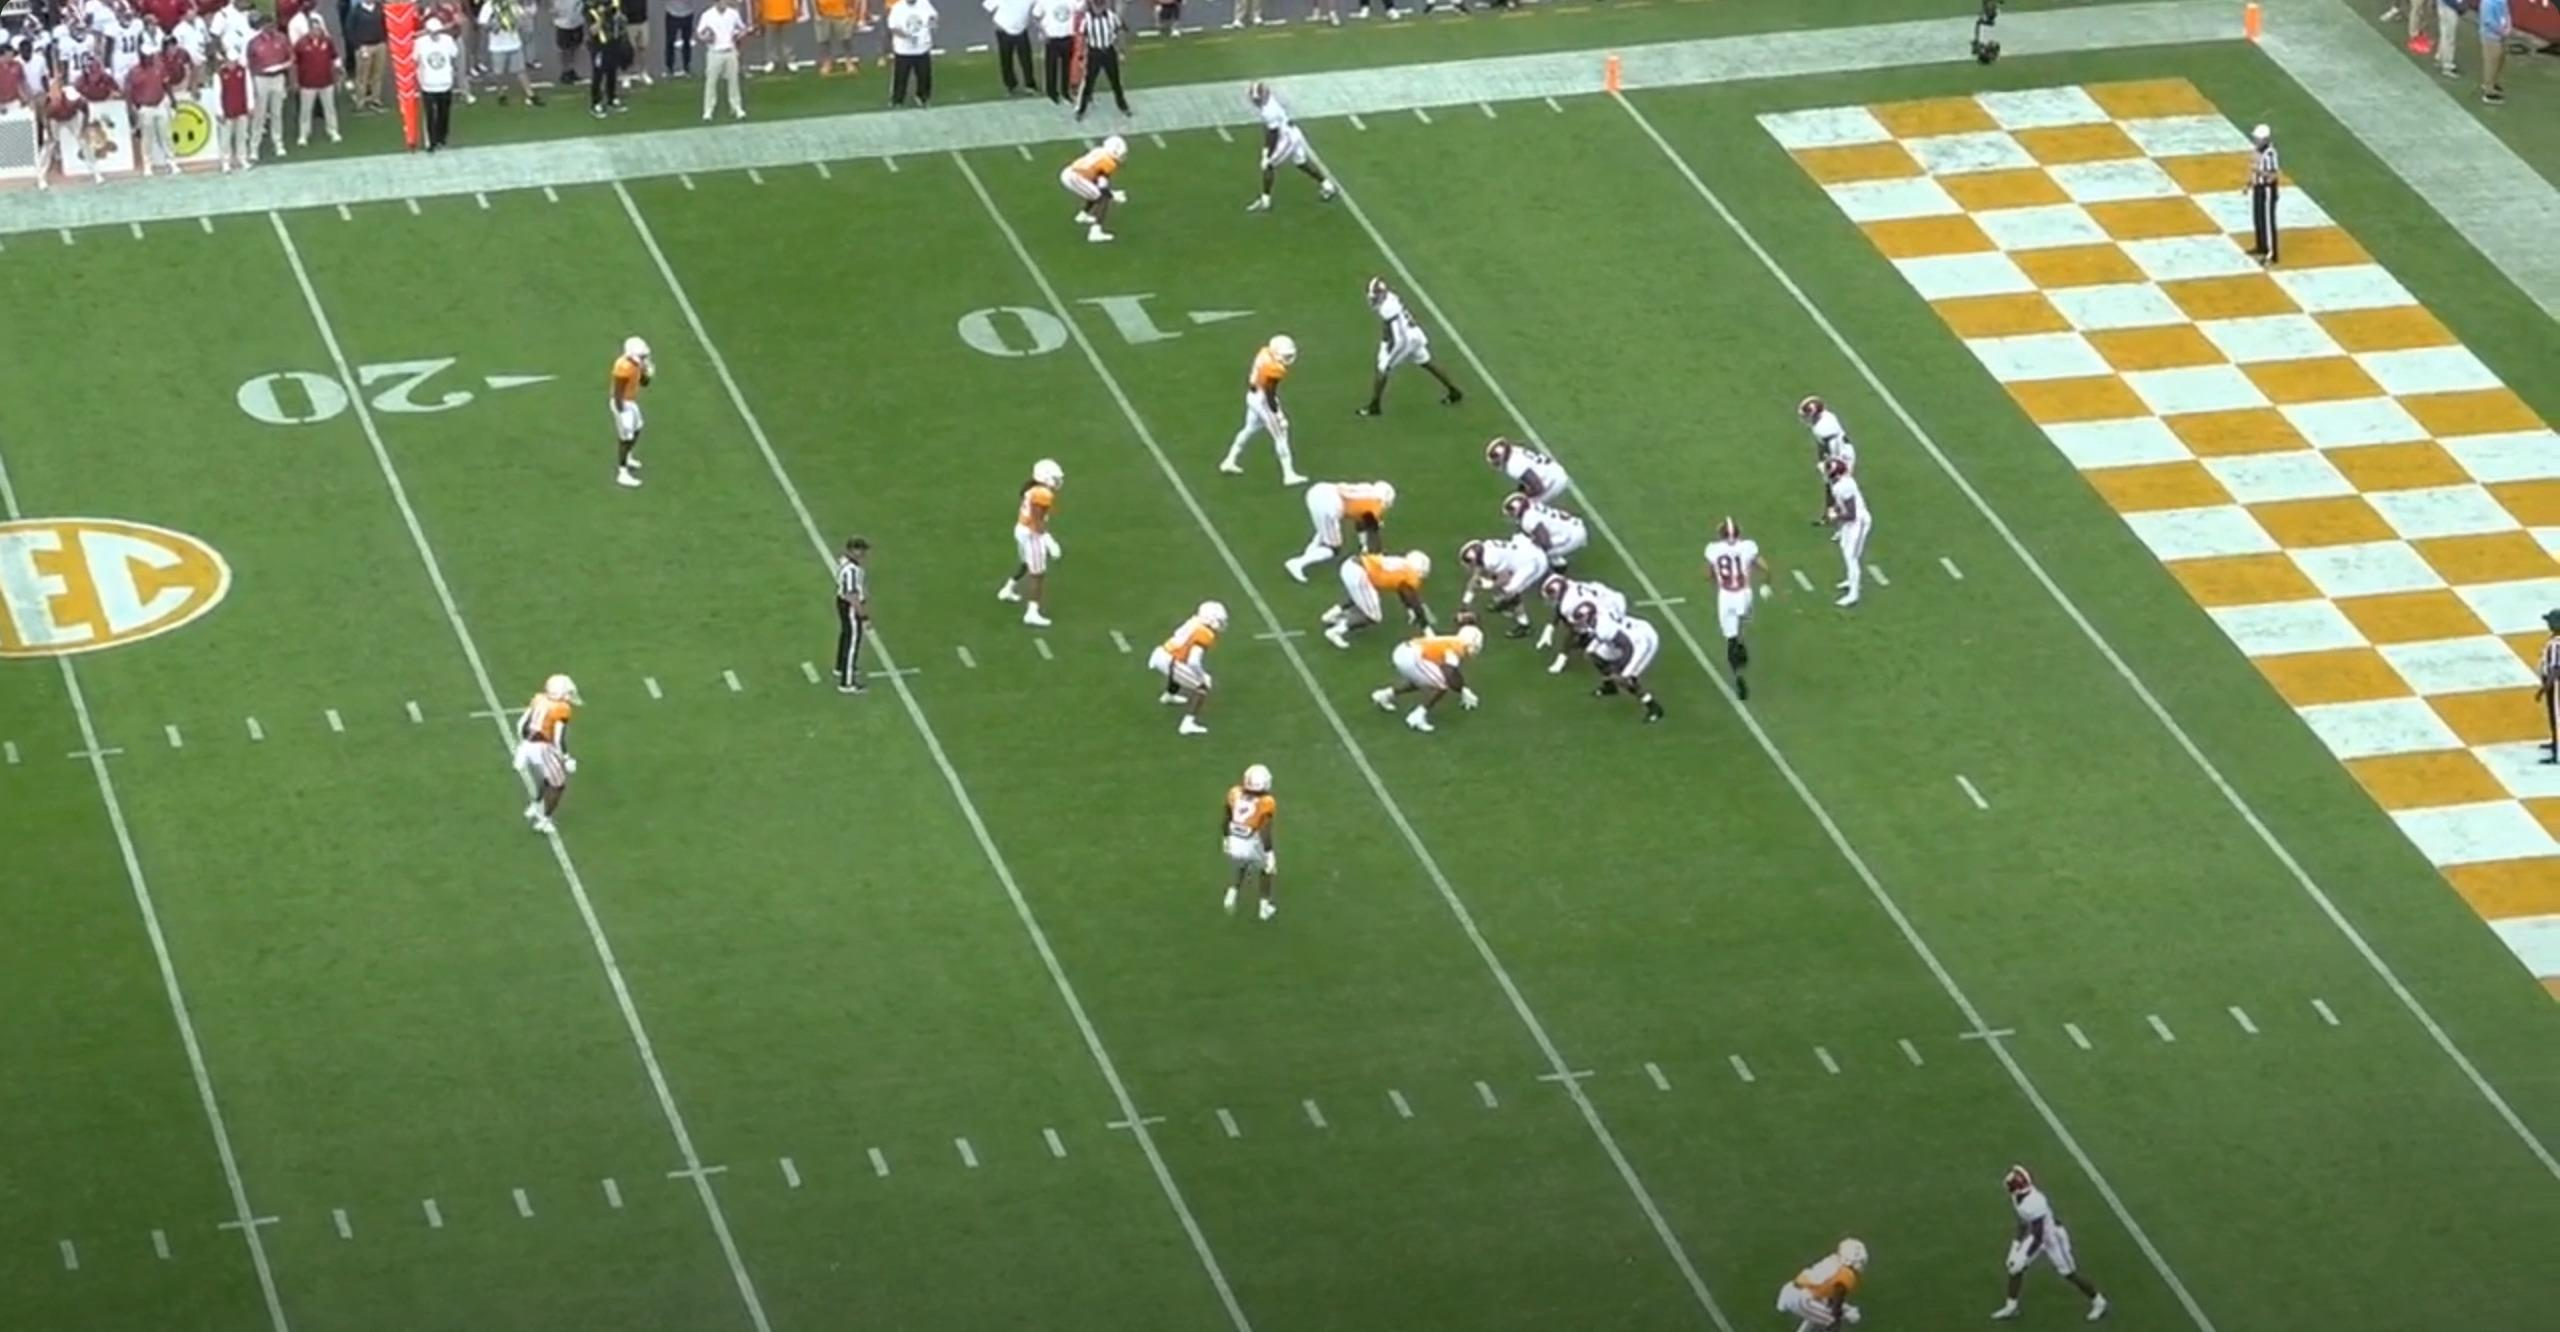defense: (1221, 323, 1312, 484), (999, 450, 1079, 633), (1273, 472, 1397, 582), (1378, 625, 1498, 736), (1319, 545, 1443, 652), (516, 669, 593, 838), (1219, 753, 1292, 929), (1156, 601, 1239, 750), (589, 332, 654, 506), (1766, 1236, 1868, 1332), (1068, 137, 1138, 252)
oline: (1581, 606, 1674, 731), (1443, 538, 1548, 643), (1534, 574, 1625, 682), (1509, 489, 1603, 581), (1483, 437, 1571, 516)
qb: (1807, 460, 1874, 618)
ref: (826, 542, 887, 709), (1080, 0, 1143, 127), (2235, 117, 2286, 271), (2540, 608, 2560, 765)
skill: (1991, 1166, 2127, 1332), (1368, 274, 1480, 427), (1239, 85, 1348, 223), (1698, 516, 1771, 709), (1801, 398, 1861, 543)
